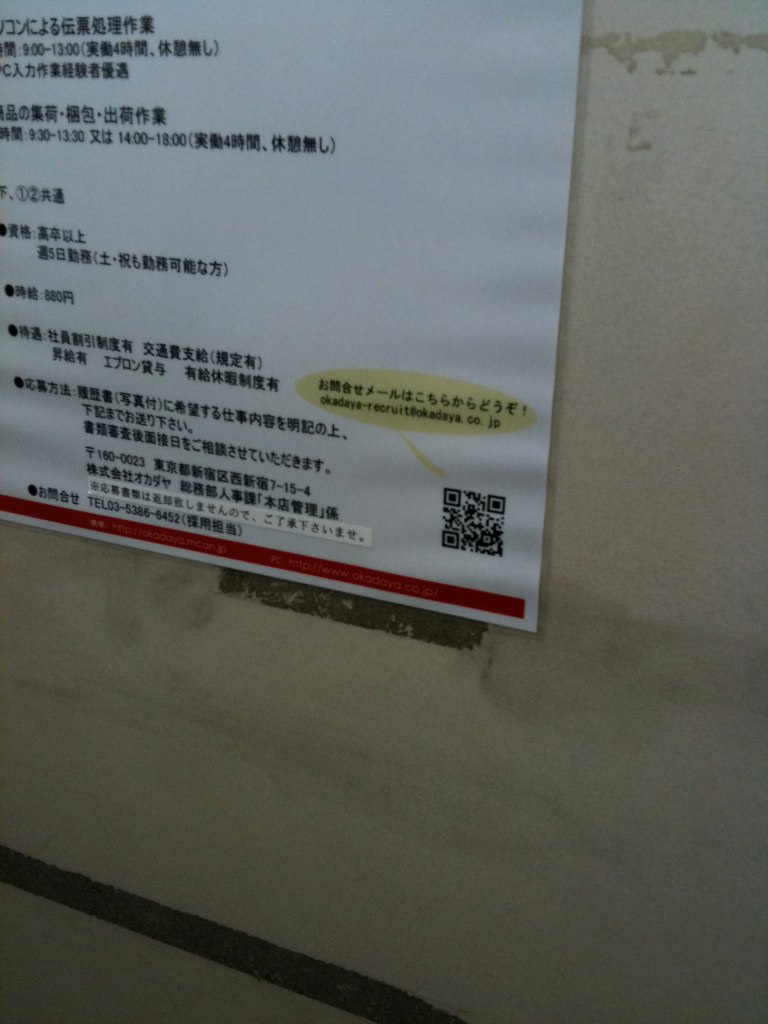QR-CODE: (442, 487, 505, 557)
